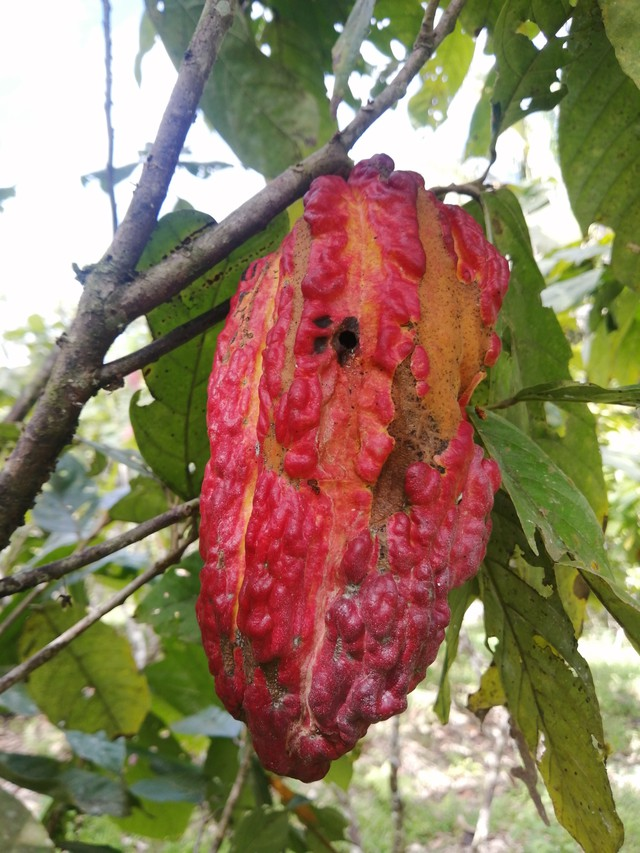carmenta foraseminis: (194, 152, 512, 784)
